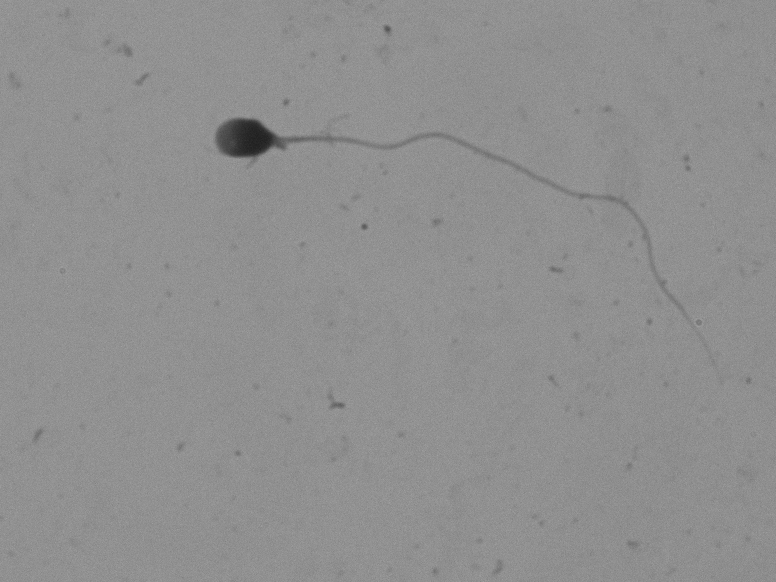Normal: (168, 85, 733, 406)
